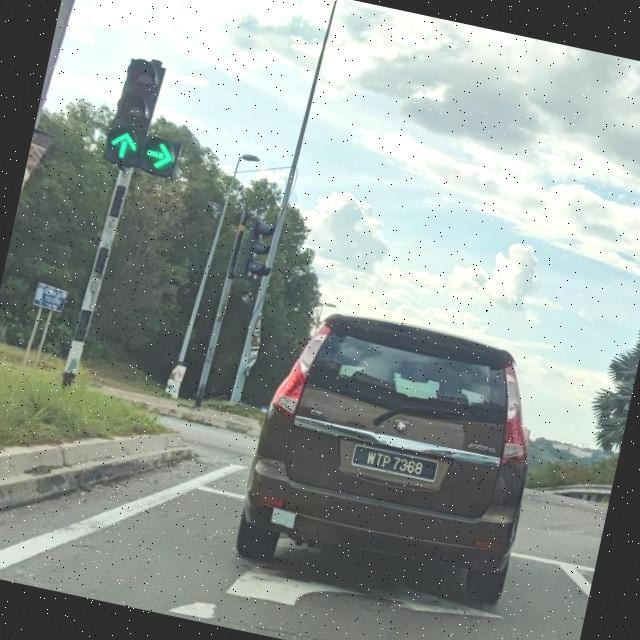green_light: (102, 55, 168, 168), (140, 66, 196, 176)
